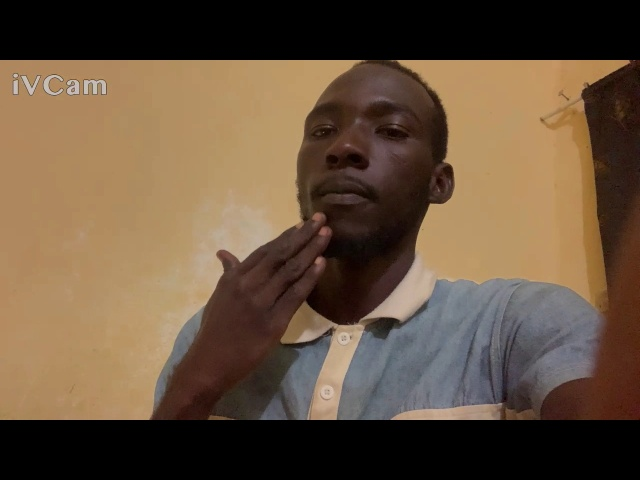merci: (194, 209, 337, 404)
